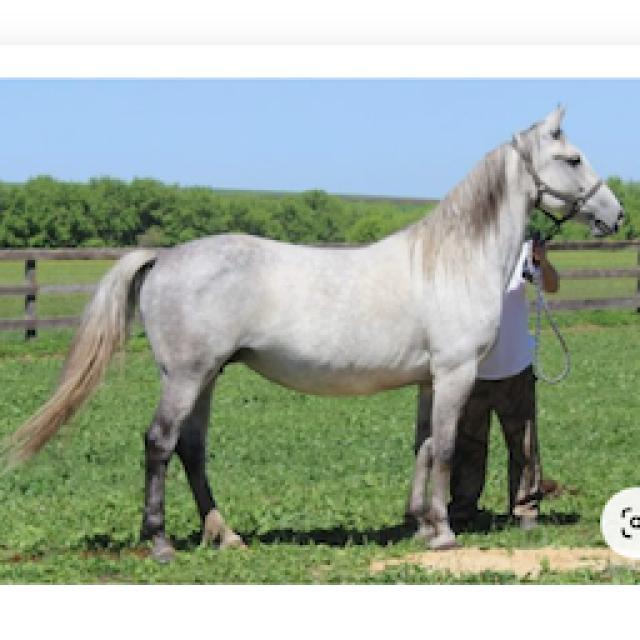Horse: (0, 98, 630, 562)
